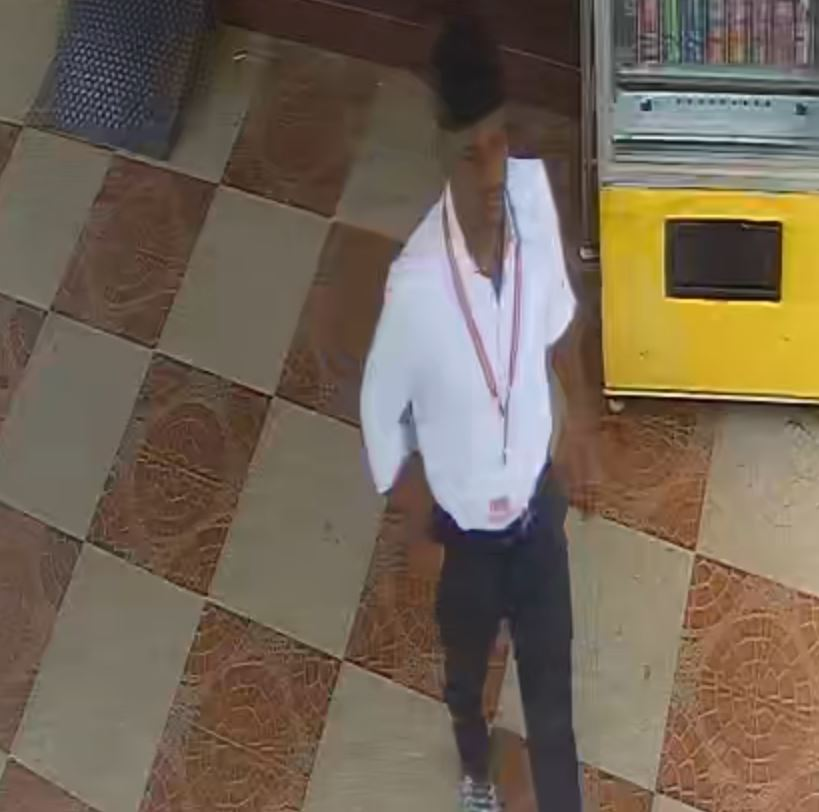not intruder: (355, 12, 617, 812)
